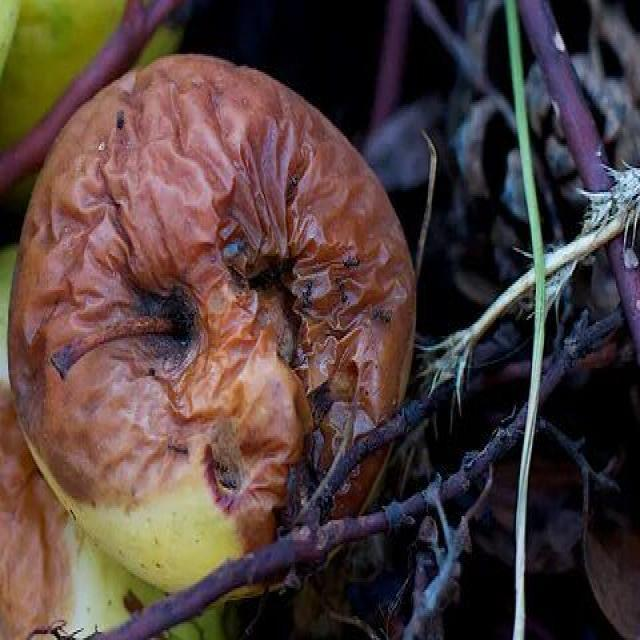Rotten: (22, 77, 425, 563)
